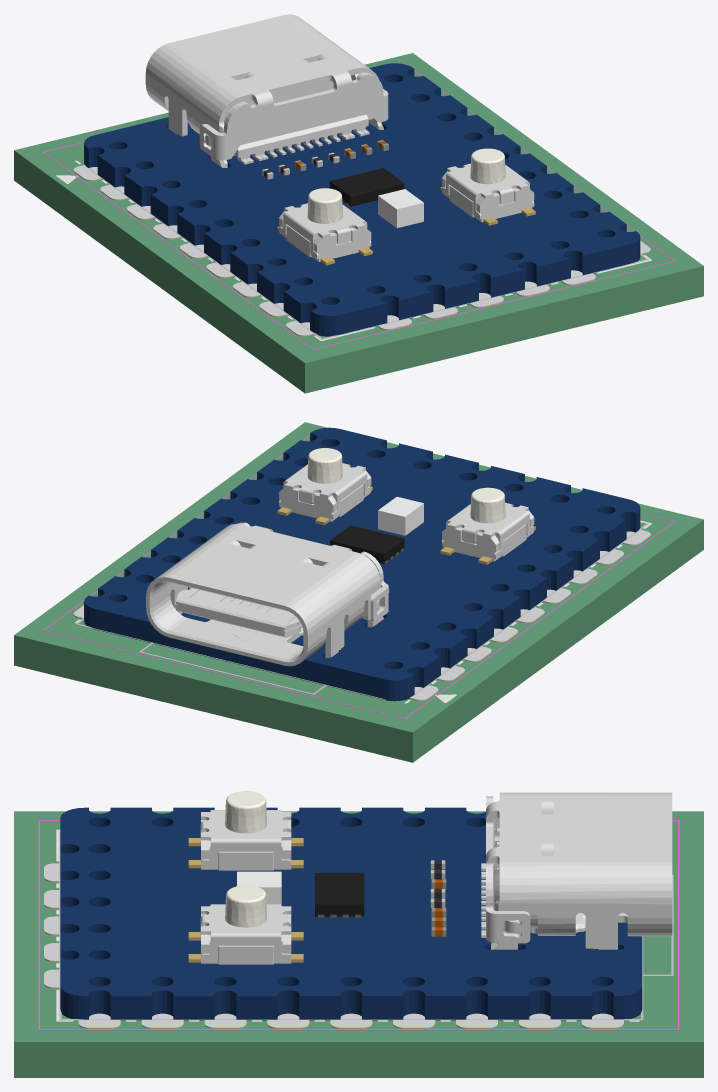
File: head.glb
3 views of the same model, one above another, from view 1: azimuth 30°, elevation 25°; view 2: azimuth 150°, elevation 25°; view 3: azimuth 270°, elevation 25° (orthographic). The views are drawn at different scales.
Parts seen in each view (by area): view 1: model_1_107_BOARD, PCB, model_1_60_SOLID-317292, model_1, F.Paste, model_1_43_TS-1185EC-A-E-A-1, model_1_81_SOLID-176303, model_1_102_EXTRUDED-32530, F.CrtYd, F.Fab, F.SilkS; view 2: model_1_107_BOARD, PCB, model_1_60_SOLID-317292, model_1, model_1_43_TS-1185EC-A-E-A-1, model_1_81_SOLID-176303, F.Paste, model_1_102_EXTRUDED-32530, F.Fab, F.CrtYd; view 3: model_1_107_BOARD, PCB, model_1_60_SOLID-317292, model_1, F.Paste, model_1_43_TS-1185EC-A-E-A-1, F.CrtYd, F.Fab, model_1_102_EXTRUDED-32530, model_1_81_SOLID-176303, F.Cu, F.SilkS.
Part boxes in pixels (box(x1,y1,x2,y2)): model_1_107_BOARD: box(84, 63, 640, 336); PCB: box(14, 53, 703, 393); model_1_60_SOLID-317292: box(145, 14, 388, 167); model_1: box(262, 140, 535, 265); F.Paste: box(73, 165, 650, 335); model_1_43_TS-1185EC-A-E-A-1: box(442, 163, 534, 222); model_1_81_SOLID-176303: box(224, 73, 373, 159); model_1_102_EXTRUDED-32530: box(378, 189, 423, 227); F.CrtYd: box(42, 64, 674, 349); F.Fab: box(86, 166, 648, 339); F.SilkS: box(56, 160, 651, 341); model_1_107_BOARD: box(84, 427, 640, 701); PCB: box(14, 422, 703, 762); model_1_60_SOLID-317292: box(146, 522, 388, 666); model_1: box(277, 448, 535, 593); model_1_43_TS-1185EC-A-E-A-1: box(279, 463, 371, 521); model_1_81_SOLID-176303: box(175, 588, 362, 637); F.Paste: box(73, 530, 650, 700); model_1_102_EXTRUDED-32530: box(378, 496, 423, 535); F.Fab: box(76, 521, 648, 699); F.CrtYd: box(42, 435, 674, 719); model_1_107_BOARD: box(60, 807, 642, 1020); PCB: box(14, 811, 703, 1077); model_1_60_SOLID-317292: box(486, 792, 672, 949); model_1: box(188, 791, 446, 962); F.Paste: box(44, 863, 623, 1027); model_1_43_TS-1185EC-A-E-A-1: box(200, 904, 291, 964); F.CrtYd: box(38, 820, 679, 1030); F.Fab: box(59, 830, 673, 1020); model_1_102_EXTRUDED-32530: box(237, 871, 281, 905); model_1_81_SOLID-176303: box(493, 817, 537, 928); F.Cu: box(44, 878, 623, 1028); F.SilkS: box(56, 829, 639, 1021).
Size of the model in its own units: 22.05 by 5.95 by 27.87.
